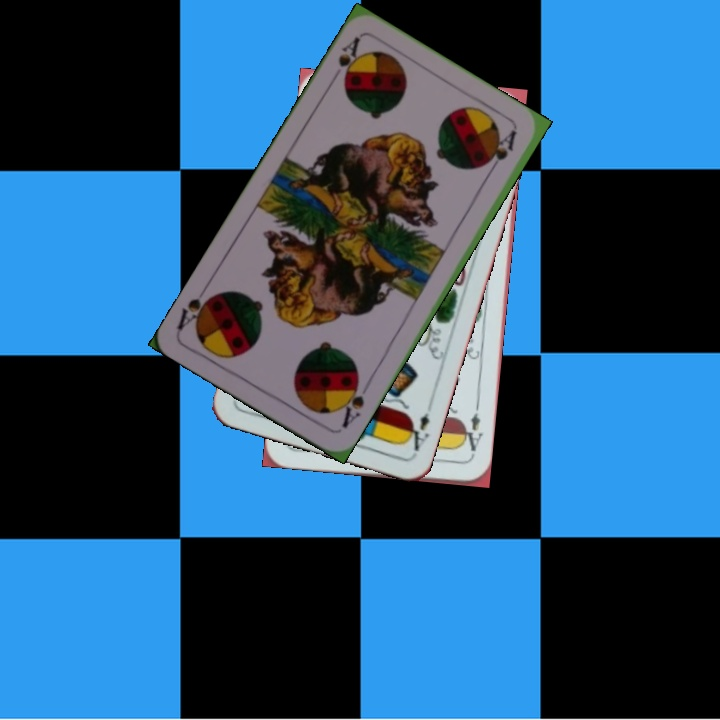EA: (458, 401, 486, 460), (400, 409, 432, 454)
SA: (326, 32, 366, 89), (334, 374, 367, 431)
